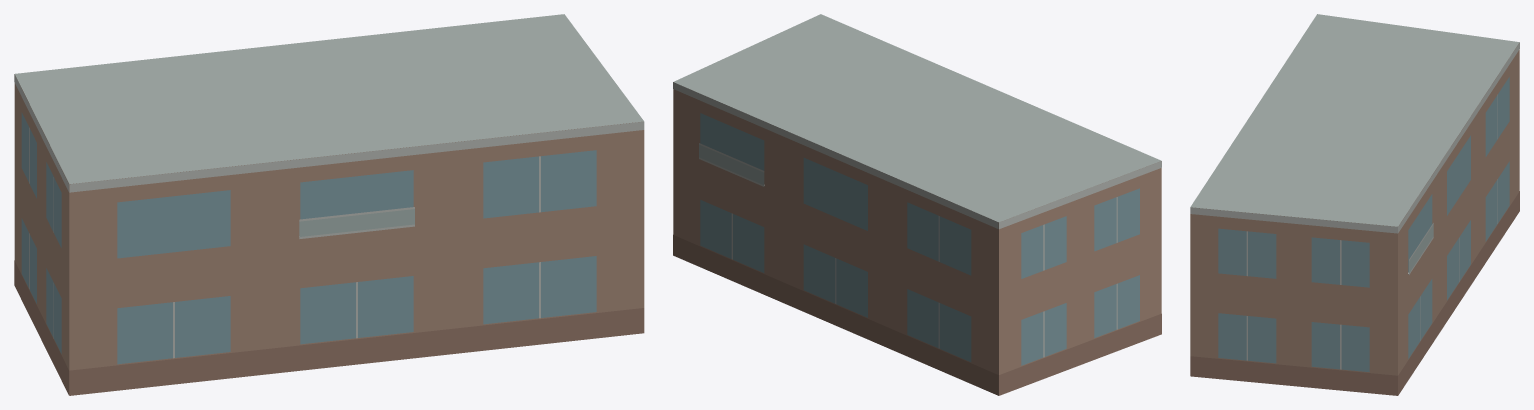
Rendered from survey-upis-32997019.glb.
3 views of the same model, side by side, from view 1: azimuth 30°, elevation 25°; view 2: azimuth 150°, elevation 25°; view 3: azimuth 270°, elevation 25° (orthographic). The views are drawn at different scales.
Visible parts, largest first — view 1: survey-upis-32997019.tmp; view 2: survey-upis-32997019.tmp; view 3: survey-upis-32997019.tmp.
Boxes of the visible parts, x1,y1,x2,y2 form: survey-upis-32997019.tmp: (14, 14, 644, 395); survey-upis-32997019.tmp: (673, 14, 1161, 395); survey-upis-32997019.tmp: (1190, 14, 1519, 395).
Size of the model in its own units: 16.47 by 6.1 by 10.78.
